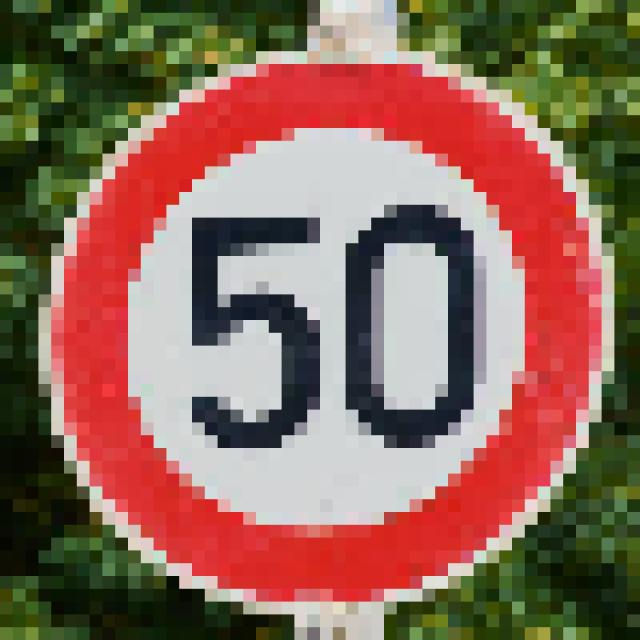Limite-50: (39, 54, 618, 617)
